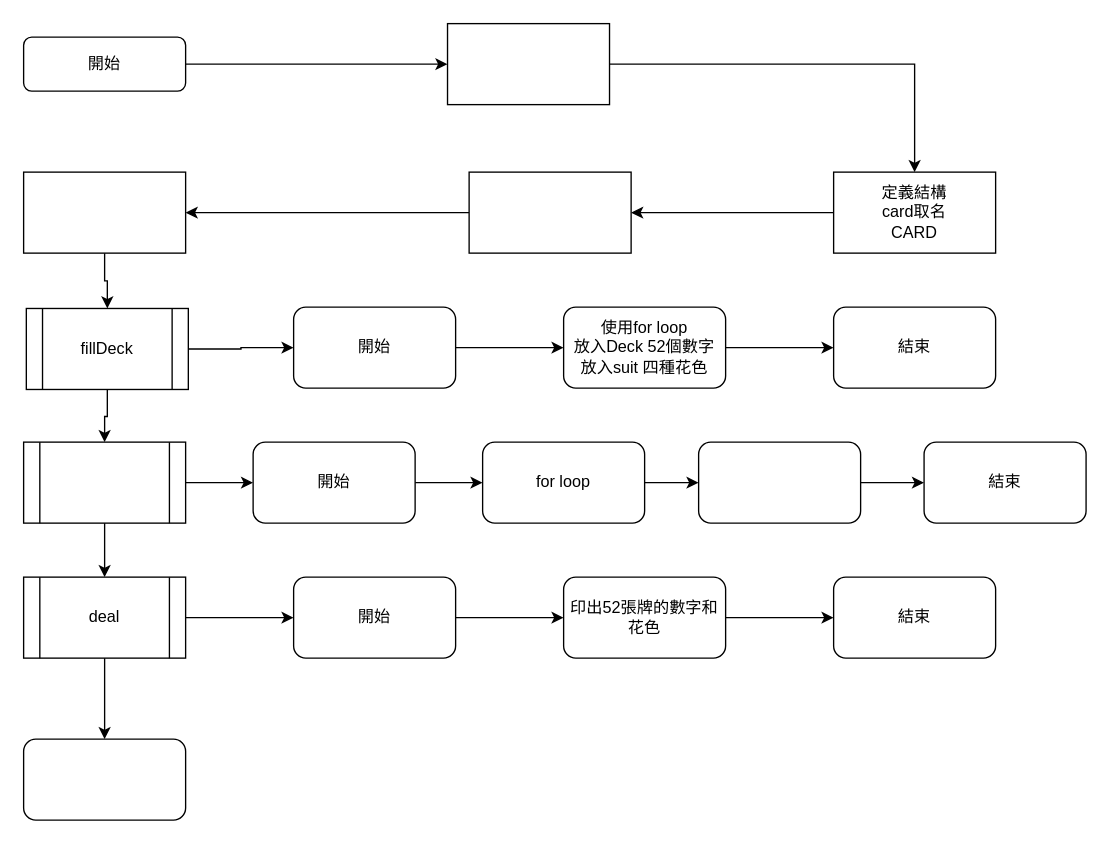
The diagram is 1110 pixels wide and 844 high, and some of its shapes have lost their labels. The shapes that lost their labels are listed below. From the top down, each one's centre as x and y in pixels, then its label:
At (528,63): "定義結構 face suit".
At (104,212): "主程式開始".
At (549,212): "定義副程式 fillDeck shuffle".
At (104,482): "shuffle".
At (779,482): "將第i張牌與亂數的第j張牌交換".
At (104,779): "主程式結束".
